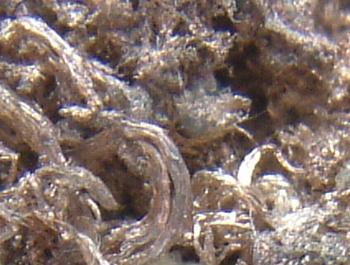silver: (0, 0, 350, 265), (0, 1, 350, 265)
